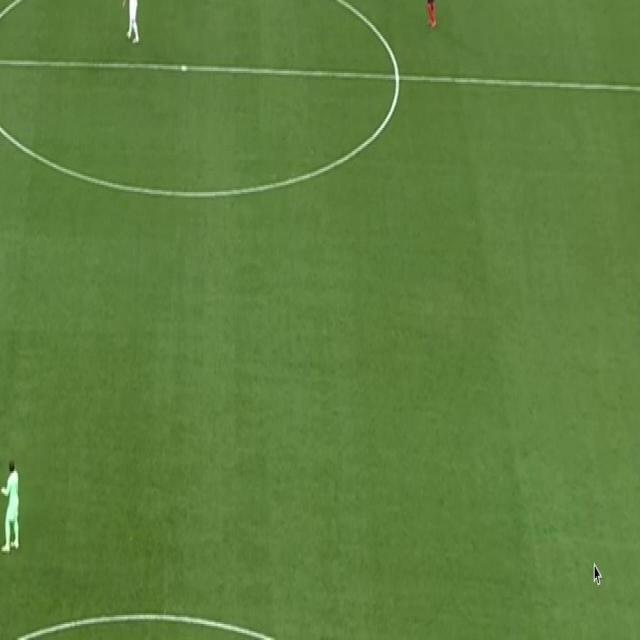player-white: (0, 454, 22, 566), (121, 0, 152, 44), (423, 0, 437, 28)
